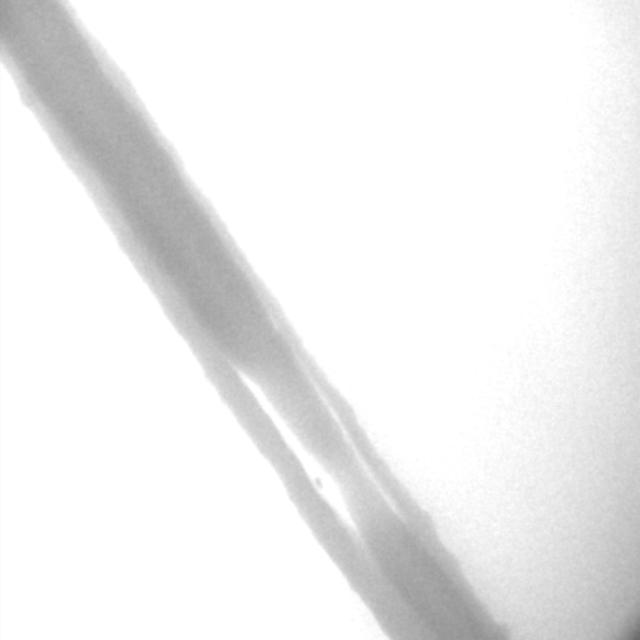unfused: (231, 361, 399, 534)
